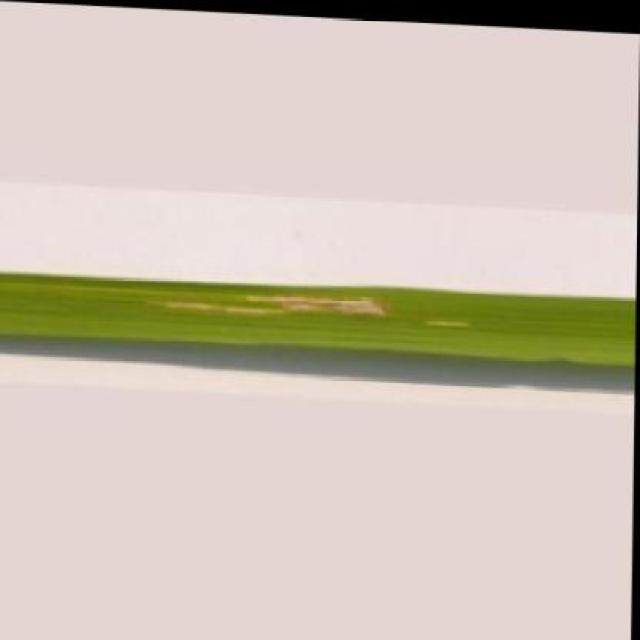Brown_Spot: (0, 258, 637, 365)
